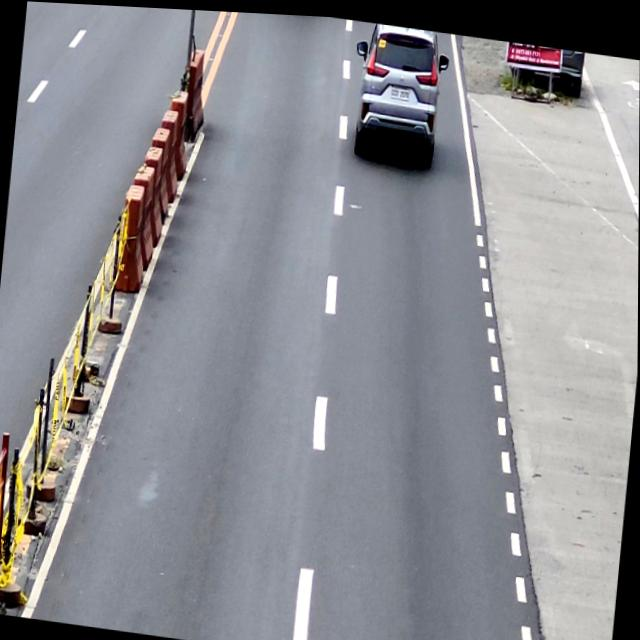Car: (346, 17, 452, 163)
License-Plate: (389, 81, 411, 97)
